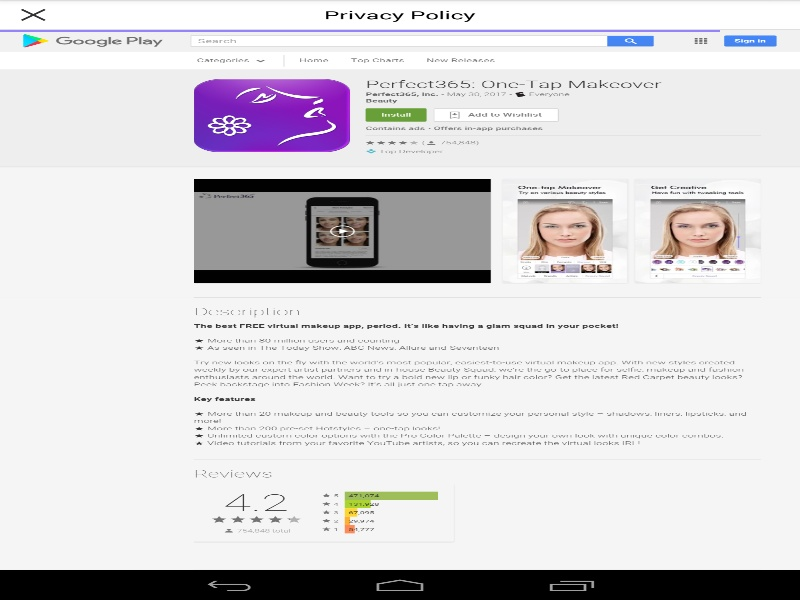Button: (185, 51, 279, 69), (433, 108, 559, 121), (365, 108, 426, 121), (323, 222, 360, 240), (606, 35, 653, 46), (723, 73, 767, 84), (675, 73, 706, 84), (688, 35, 712, 46)
Input: (197, 37, 600, 44)
